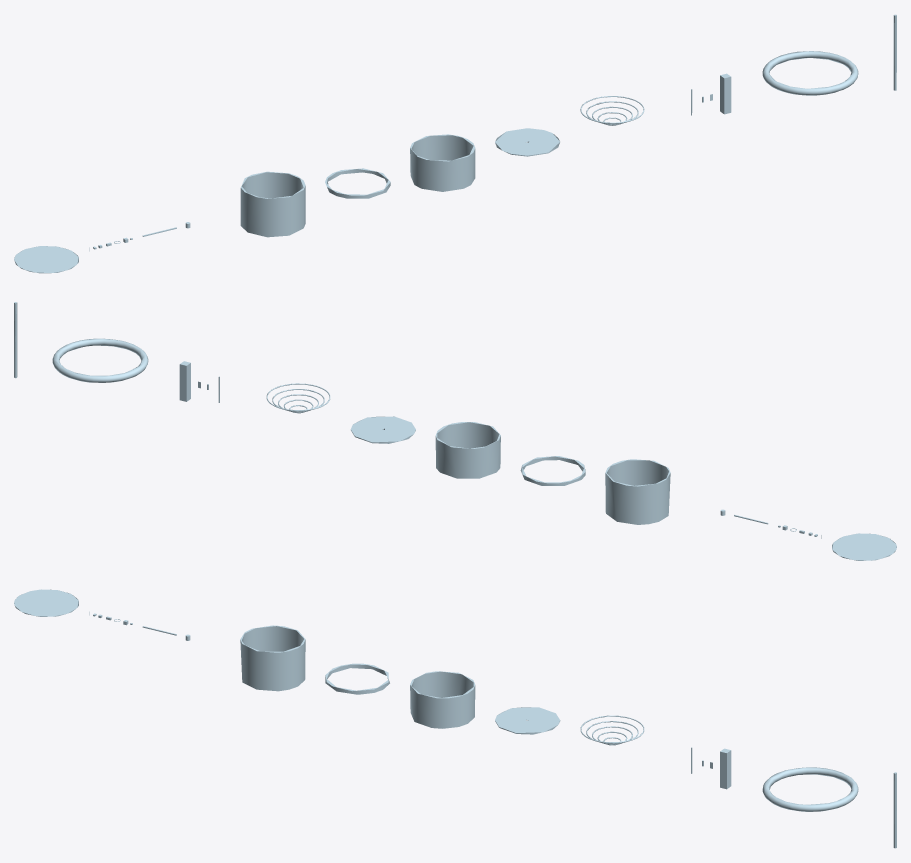
File: gantry_kit_lod2.glb
3 renders of one model, top to bottom at view 1: azimuth 30°, elevation 25°; view 2: azimuth 150°, elevation 25°; view 3: azimuth 330°, elevation 25°, orthographic.
Parts seen in each view (by area): view 1: Base wall, Slip wall, Build berm, Gantry roof disc, Deck slab, Slip form; view 2: Base wall, Slip wall, Build berm, Gantry roof disc, Deck slab, Slip form; view 3: Base wall, Slip wall, Build berm, Gantry roof disc, Deck slab, Slip form.
Part boxes in pixels (x1,y1,x2,y2): Base wall: (240, 171, 305, 237); Slip wall: (410, 134, 475, 191); Build berm: (762, 51, 858, 95); Gantry roof disc: (14, 246, 78, 273); Deck slab: (495, 128, 559, 156); Slip form: (325, 168, 390, 198); Base wall: (605, 459, 670, 524); Slip wall: (435, 422, 500, 478); Build berm: (52, 338, 148, 382); Gantry roof disc: (832, 533, 896, 560); Deck slab: (350, 416, 415, 443); Slip form: (520, 456, 585, 485); Base wall: (240, 625, 305, 691); Slip wall: (410, 671, 475, 728); Build berm: (762, 767, 858, 811); Gantry roof disc: (14, 589, 78, 616); Deck slab: (495, 707, 560, 734); Slip form: (325, 663, 389, 694).
Bounding box in the file's own units: 310 × 25.31 × 29.35.
